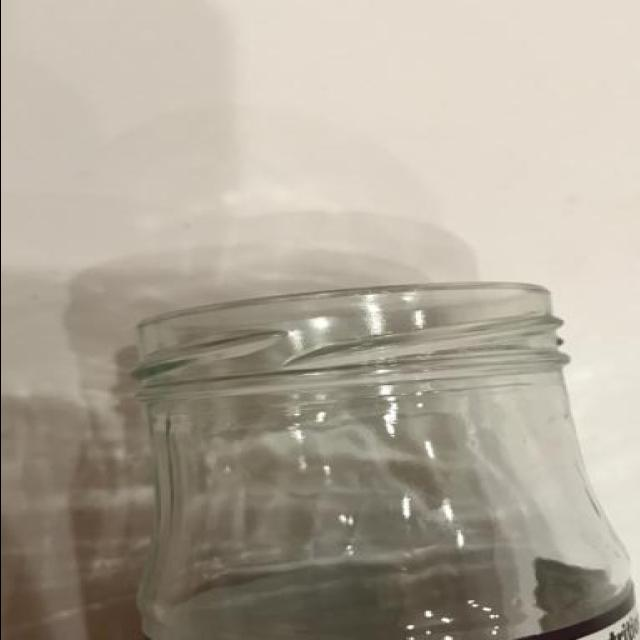Glass Bottle: (128, 282, 636, 638)
